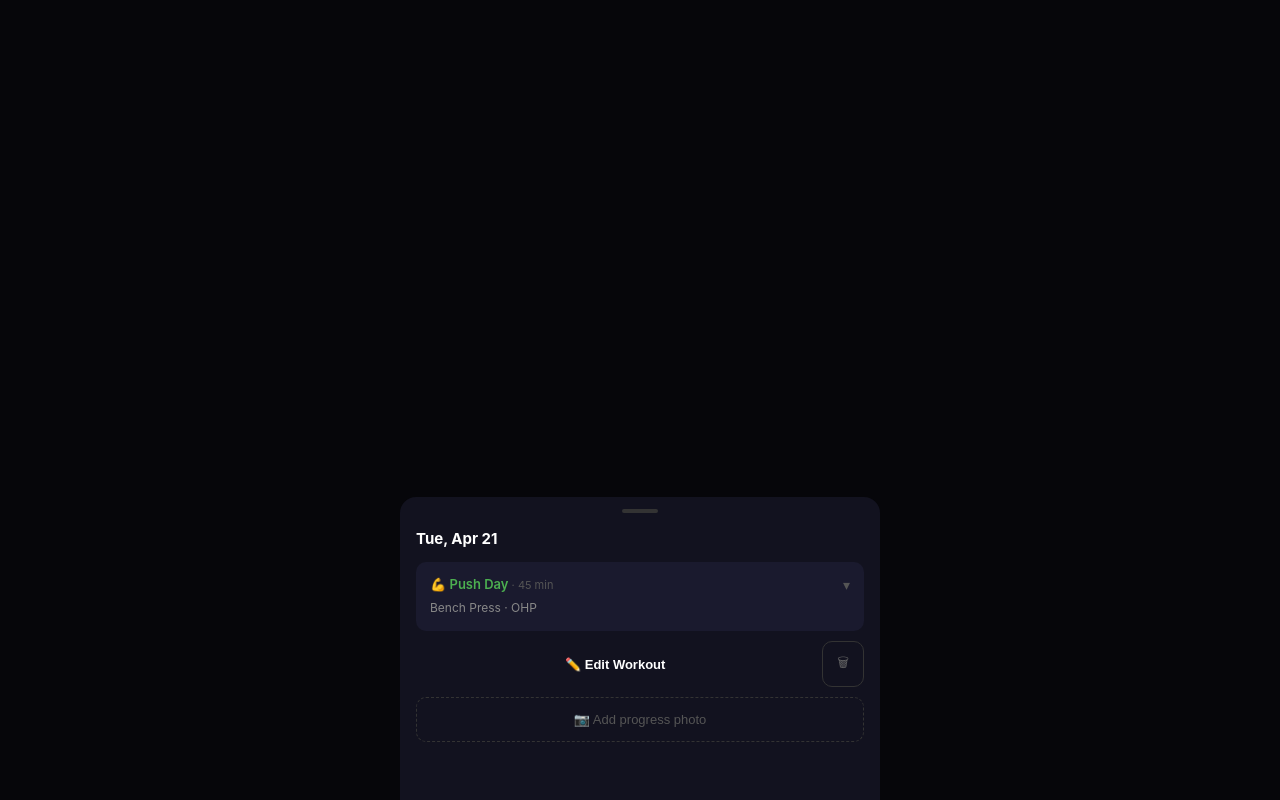
it: DaySheet › shows delete confirmation when delete button is clicked
Click the button named "delete workout".
click(843, 664)  # box x1=822 y1=641 x2=864 y2=687
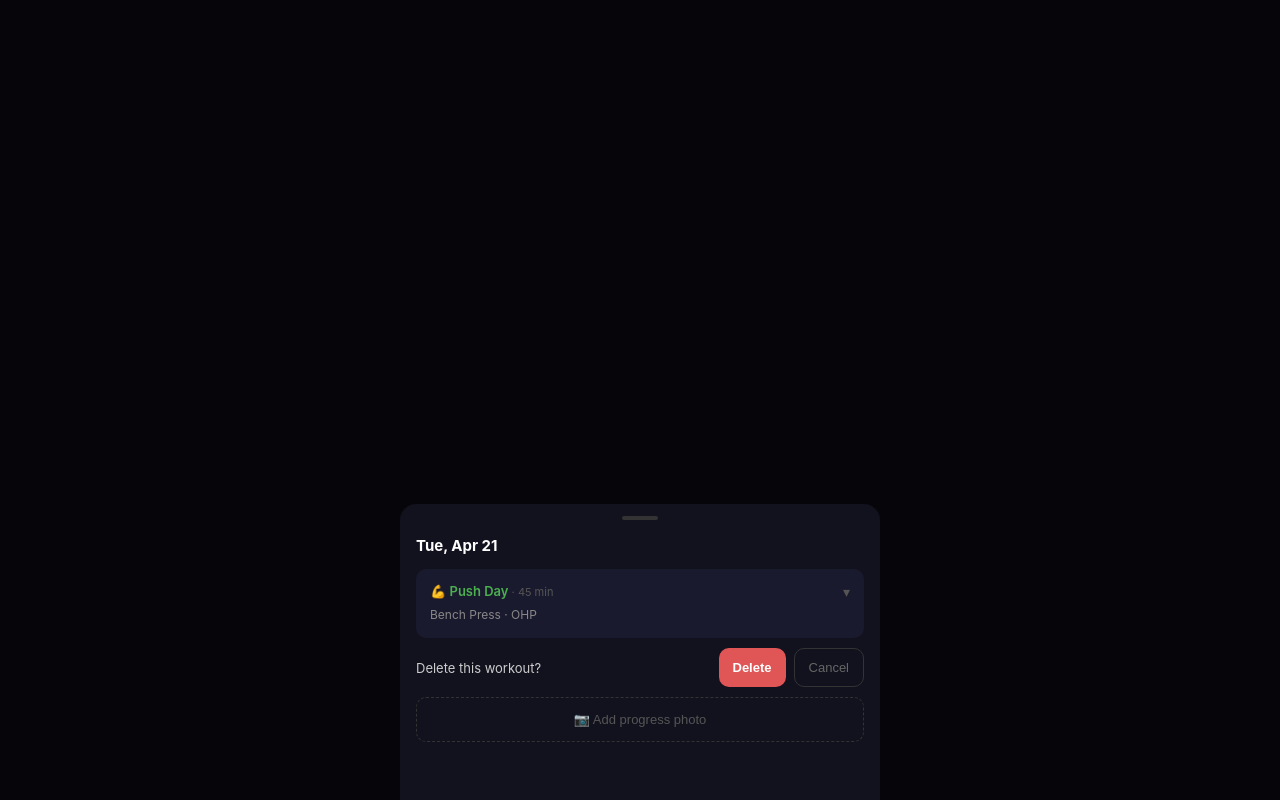
Check: the text "Delete this workout?" is shown, box x1=416 y1=660 x2=541 y2=676
Check: the button "Delete" is shown, box x1=718 y1=648 x2=786 y2=687
Check: the button "Cancel" is shown, box x1=794 y1=648 x2=864 y2=687
